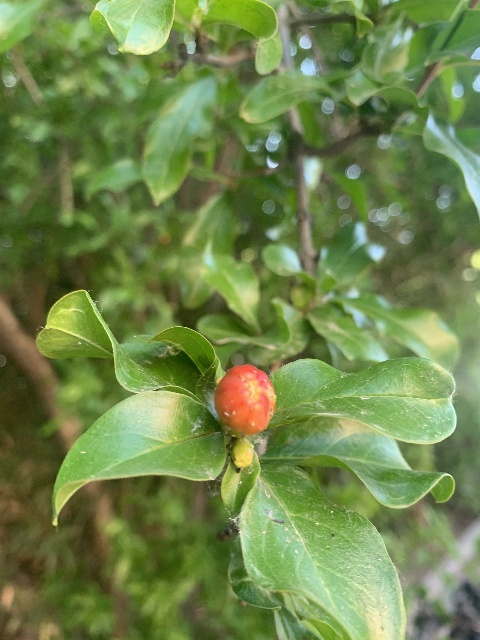bud: (214, 364, 275, 437), (230, 439, 253, 467)
